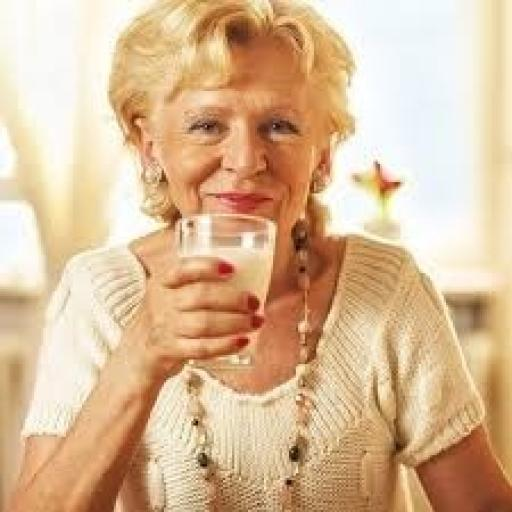drinking: (173, 212, 275, 368)
